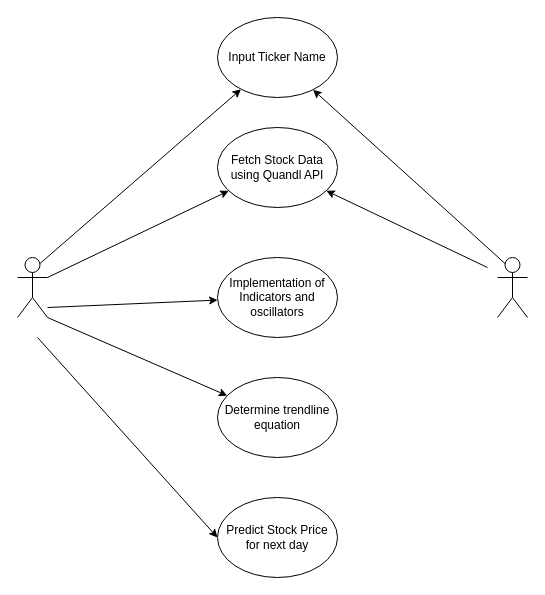
The diagram is 545 pixels wide and 595 high, and some of its shapes have lost their labels. Each missing label, with the centre of its shape:
DB: the point at 512,287
User: the point at 32,287
